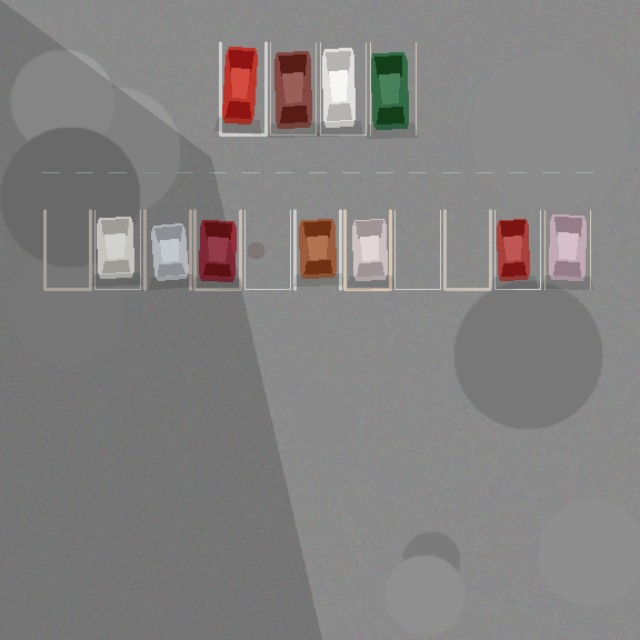space-empty: (44, 210, 90, 289), (244, 210, 290, 289), (394, 210, 440, 289), (444, 210, 490, 289)
space-occupied: (220, 42, 266, 134), (270, 42, 316, 134), (320, 42, 366, 134), (370, 42, 416, 134), (94, 210, 140, 289), (144, 210, 190, 289), (194, 210, 240, 289), (294, 210, 340, 289), (344, 210, 390, 289), (494, 210, 540, 289), (544, 210, 590, 289)
